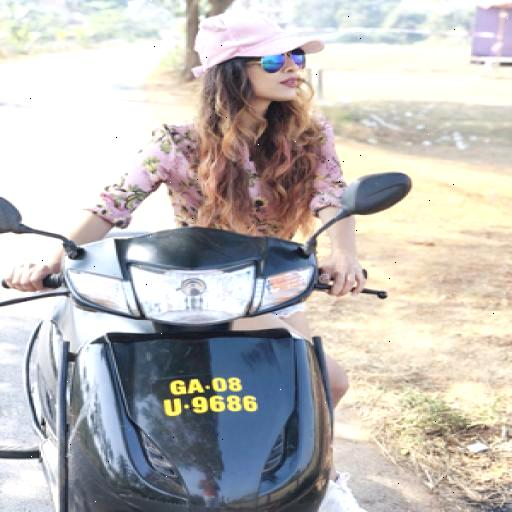no helmet: (44, 1, 386, 511)
